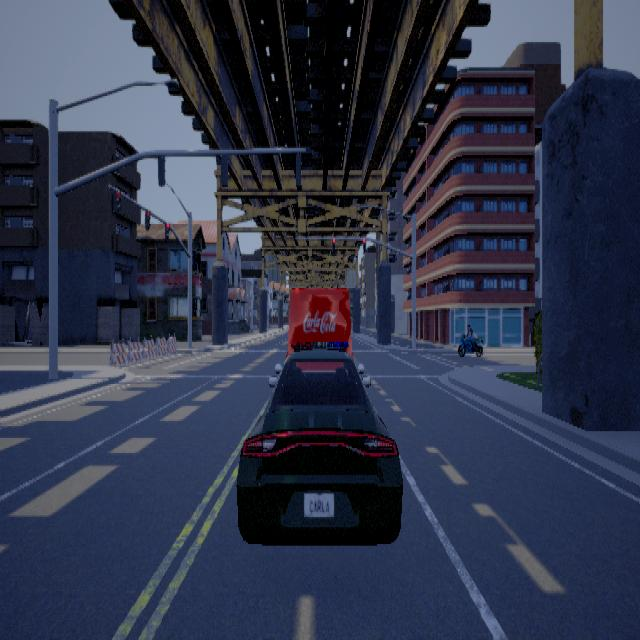motobike: (452, 322, 485, 360)
red_light: (113, 189, 120, 212), (144, 207, 150, 229), (164, 221, 169, 239), (362, 238, 365, 252), (331, 238, 334, 252)
vehicle: (235, 344, 404, 544), (287, 283, 357, 408)
